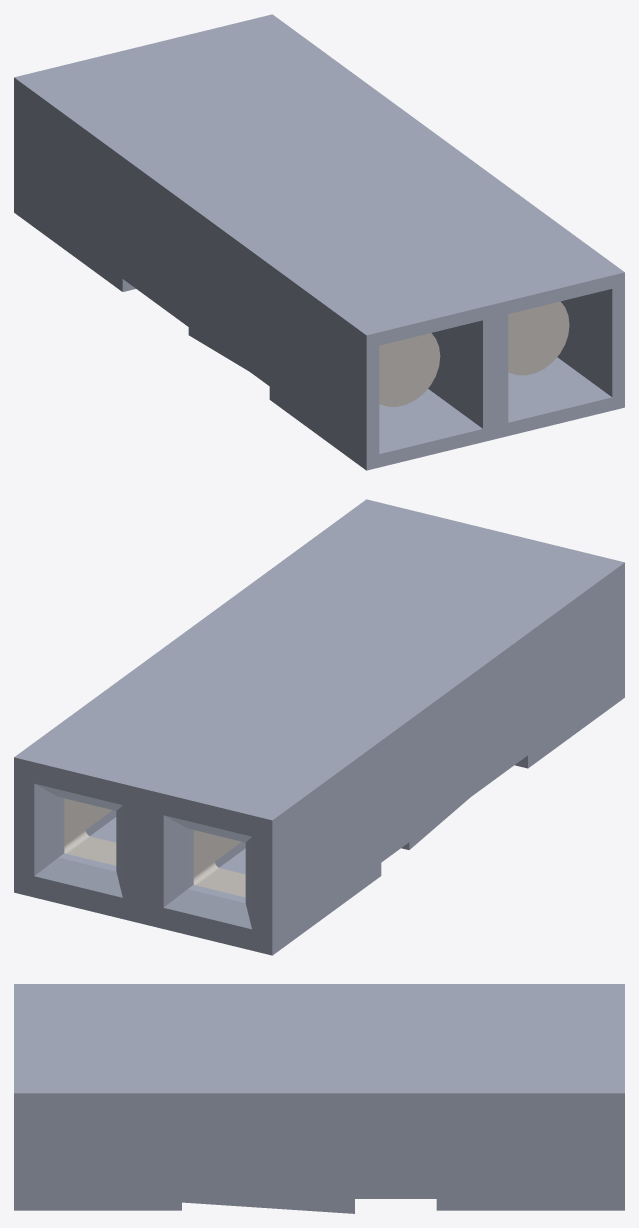
3 views of the same model, one above another, from view 1: azimuth 30°, elevation 25°; view 2: azimuth 150°, elevation 25°; view 3: azimuth 270°, elevation 25° (orthographic). The views are drawn at different scales.
Visible parts, largest first — view 1: DS1071-1x2; view 2: DS1071-1x2; view 3: DS1071-1x2.
Part boxes in pixels (x1,y1,x2,y2): DS1071-1x2: (14,14,624,470); DS1071-1x2: (14,499,624,955); DS1071-1x2: (14,984,624,1213).
Size of the model in its own units: 0.00825 by 0.00453 by 0.0195.
